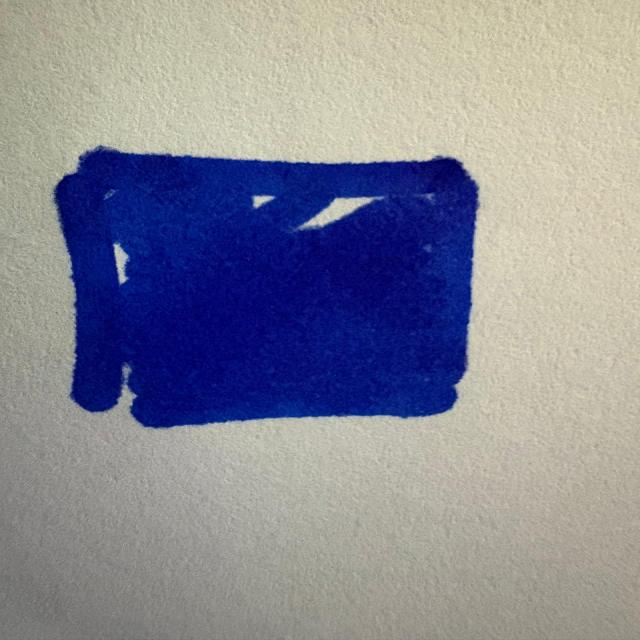Square: (30, 130, 494, 440)
